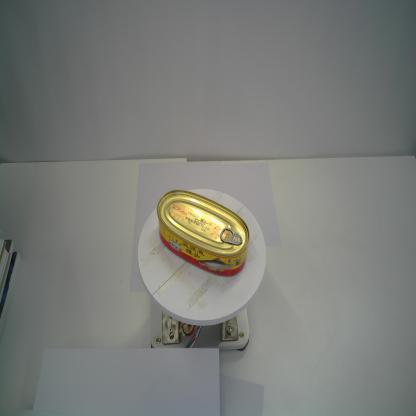Canned Food: (155, 188, 250, 276)
